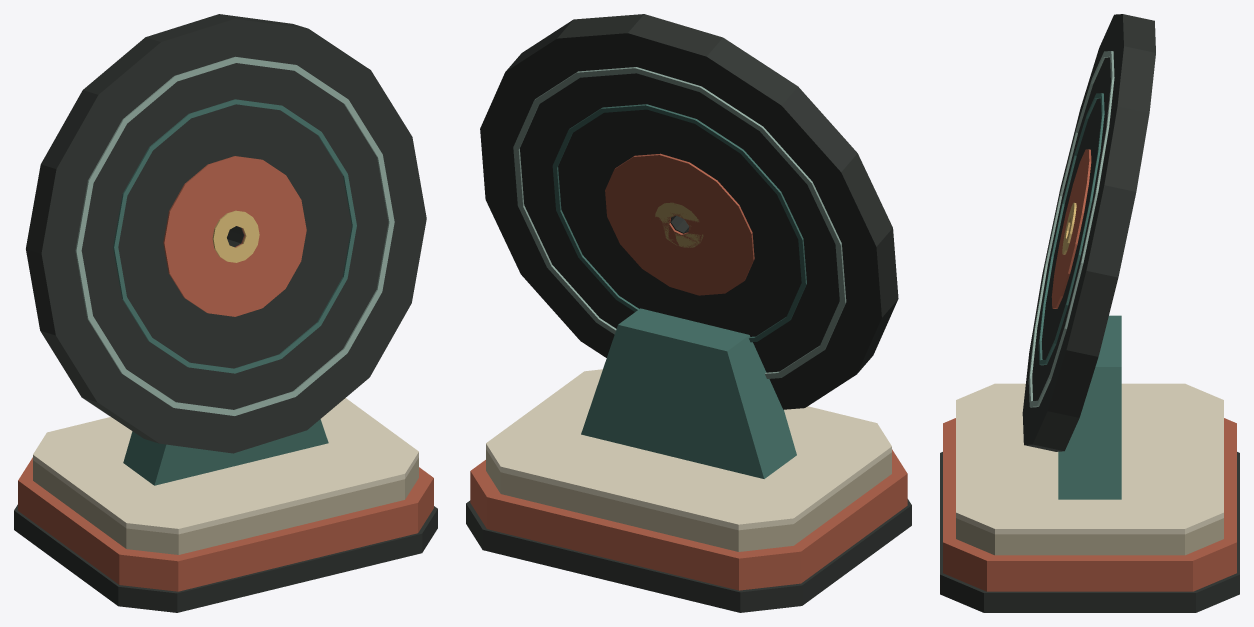
Rendered from record.glb.
The picture shows the model from 3 angles, left to right: view 1: azimuth 30°, elevation 25°; view 2: azimuth 150°, elevation 25°; view 3: azimuth 270°, elevation 25°; orthographic projection. The views are drawn at different scales.
Parts seen in each view (by area): view 1: Tilted 78; view 2: Tilted 78; view 3: Tilted 78.
Boxes of the visible parts, <box> form: Tilted 78: <box>14,14,437,612</box>; Tilted 78: <box>466,14,911,612</box>; Tilted 78: <box>940,14,1239,612</box>.
Size of the model in its own units: 1.82 by 2.26 by 1.23.
